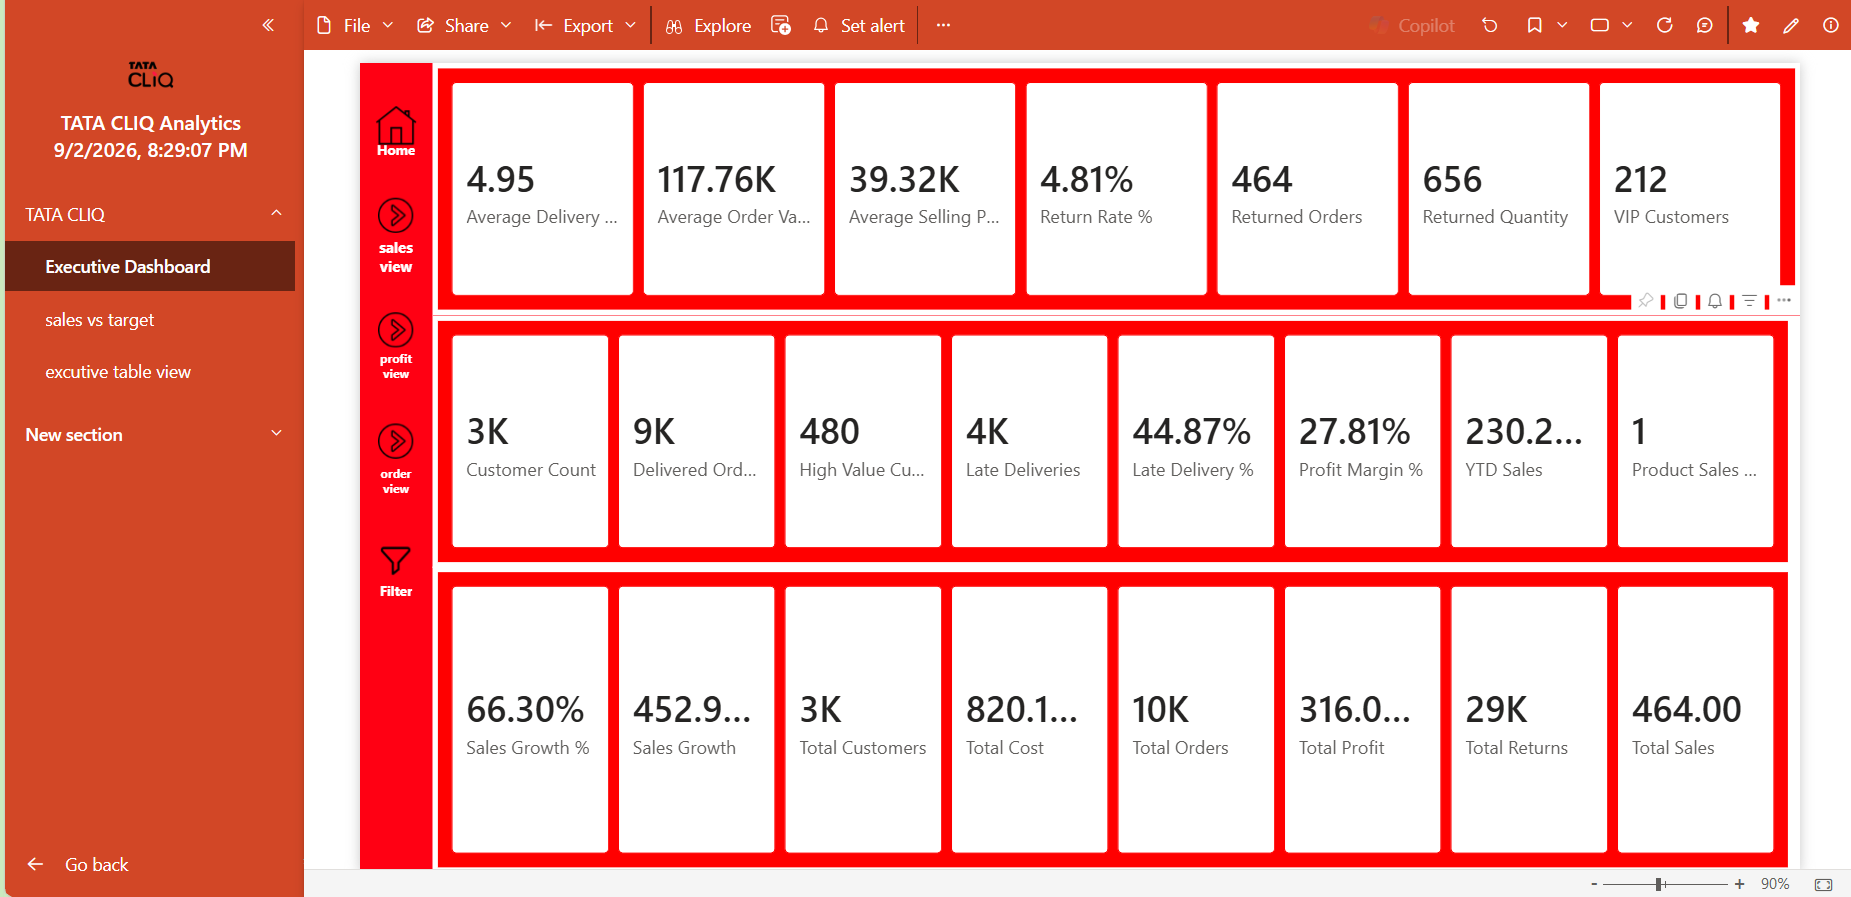

Layout of this report page (visuals, bound fields, positions):
{"tool":"powerbi","page":{"name":"Executive Dashboard","canvas":[1280,720],"ordinal":0},"visuals":[{"type":"group","id":"g1","title":"filter","box":[0,0,1280,720],"z":0,"group":"g2"},{"type":"actionButton","box":[496.2,592.5,47.5,47.5],"z":0,"group":"g3"},{"type":"cardVisual","fields":{"Data":["FactSales.Average Delivery Days","FactSales.Average Order Value","FactSales.Average Selling Price","FactSales.Return Rate %","FactSales.Returned Orders","FactSales.Returned Quantity","FactSales.VIP Customers"]},"box":[64,0,1216,224],"z":1000,"group":"g3"},{"type":"cardVisual","fields":{"Data":["FactSales.Customer Count","FactSales.Delivered Orders","FactSales.High Value Customers","FactSales.Late Deliveries","FactSales.Late Delivery %","FactSales.Profit Margin %","FactSales.YTD Sales","FactSales.Product Sales Rank"]},"box":[64,224,1216,224],"z":2000,"group":"g3"},{"type":"group","id":"g2","title":"Total Visual","box":[0,0,1280,720],"z":3000},{"type":"group","id":"g3","title":"Total visual","box":[0,0,1280,720],"z":3000,"group":"g1"},{"type":"cardVisual","fields":{"Data":["FactSales.Sales Growth %","FactSales.Sales Growth","FactSales.Total Customers","FactSales.Total Cost","FactSales.Total Orders","FactSales.Total Profit","FactSales.Total Profit","FactSales.Total Quantity","FactSales.Total Returns","FactSales.Total Sales"]},"box":[64,448,1216,272],"z":3000,"group":"g3"},{"type":"actionButton","box":[0,408,64,88],"z":4000,"group":"g3"},{"type":"actionButton","box":[0,88,64,168],"z":5000,"group":"g3"},{"type":"actionButton","box":[0,0,64,112],"z":6000,"group":"g3"},{"type":"actionButton","box":[0,200,64,104],"z":7000,"group":"g3"},{"type":"actionButton","box":[0,264,64,144],"z":8000,"group":"g3"}]}

Visuals, with their boxes on the page's 1280x720 design canvas (x1, y1, x2, y2). These are canvas units, not pixel positions in the 1851x897 screenshot, which may show the page scaled, cropped or inside an application window:
"filter" group: Rect(0, 0, 1280, 720)
actionButton: Rect(496, 592, 544, 640)
cardVisual - FactSales.Average Delivery Days x FactSales.Average Order Value: Rect(64, 0, 1280, 224)
cardVisual - FactSales.Customer Count x FactSales.Delivered Orders: Rect(64, 224, 1280, 448)
"Total Visual" group: Rect(0, 0, 1280, 720)
"Total visual" group: Rect(0, 0, 1280, 720)
cardVisual - FactSales.Sales Growth % x FactSales.Sales Growth: Rect(64, 448, 1280, 720)
actionButton: Rect(0, 408, 64, 496)
actionButton: Rect(0, 88, 64, 256)
actionButton: Rect(0, 0, 64, 112)
actionButton: Rect(0, 200, 64, 304)
actionButton: Rect(0, 264, 64, 408)
